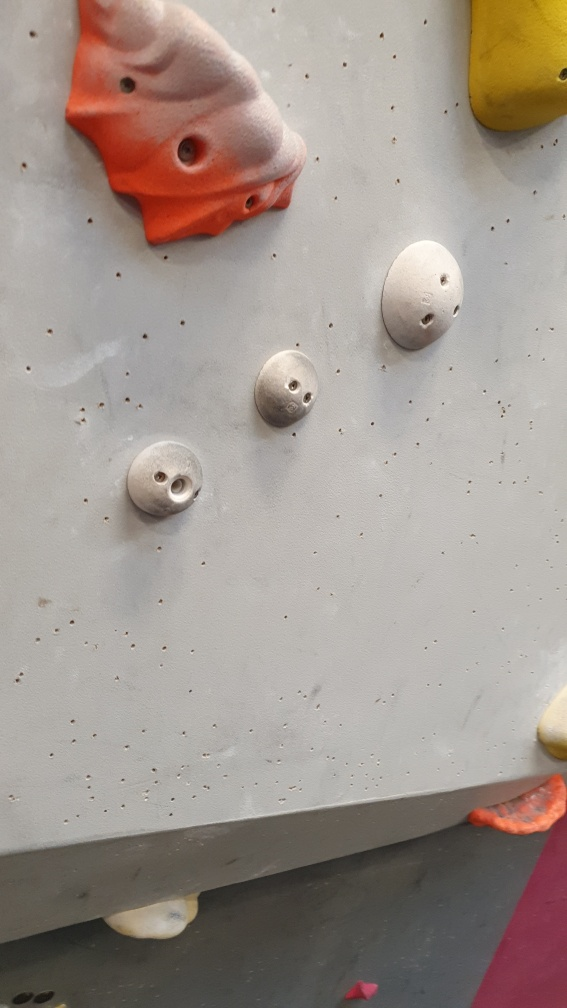Hand Start: (9, 987, 34, 1008), (34, 988, 56, 1006)
Jug: (58, 1, 311, 250), (465, 773, 567, 839)
Sloper: (378, 237, 466, 353), (125, 438, 203, 522), (253, 348, 322, 431)
